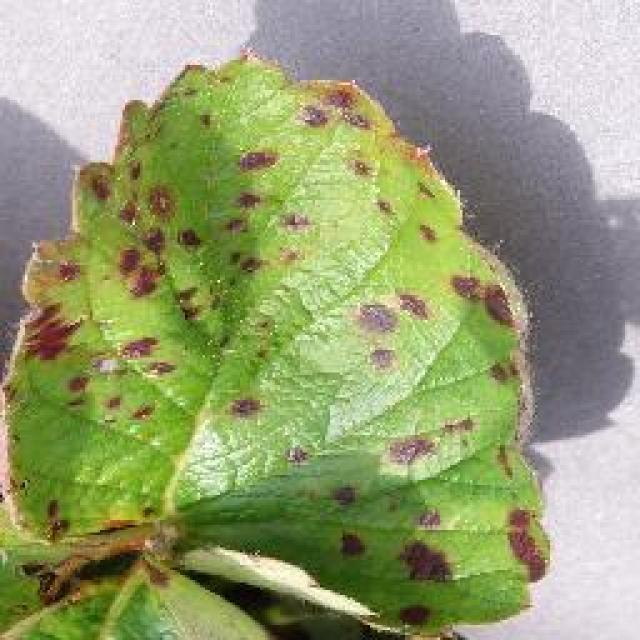Strawberry leaf scorch: (92, 183, 448, 592)
